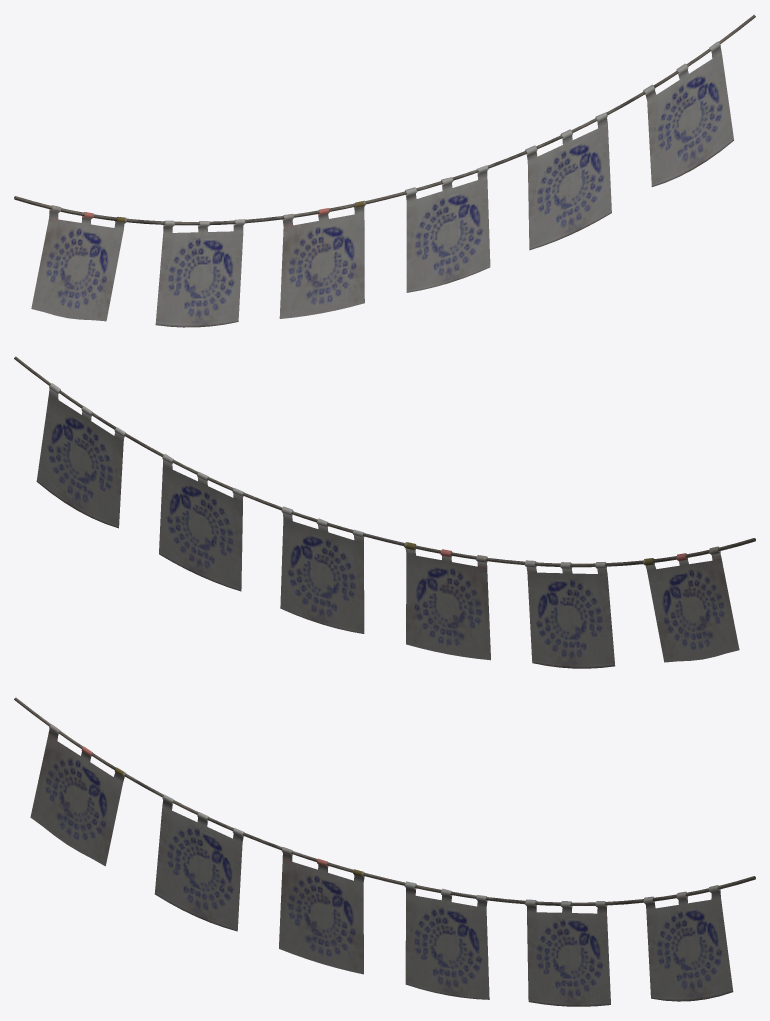
File: Flag_L.fbx
3 renders of one model, top to bottom at view 1: azimuth 30°, elevation 25°; view 2: azimuth 150°, elevation 25°; view 3: azimuth 330°, elevation 25°, orthographic.
Parts seen in each view (by area): view 1: SM_a_001_FlagND_01a; view 2: SM_a_001_FlagND_01a; view 3: SM_a_001_FlagND_01a.
Part boxes in pixels (<box>): SM_a_001_FlagND_01a: <box>14,14,755,327</box>; SM_a_001_FlagND_01a: <box>14,356,755,668</box>; SM_a_001_FlagND_01a: <box>14,697,755,1006</box>.
Size of the model in its own units: 442 by 111 by 3.2.
